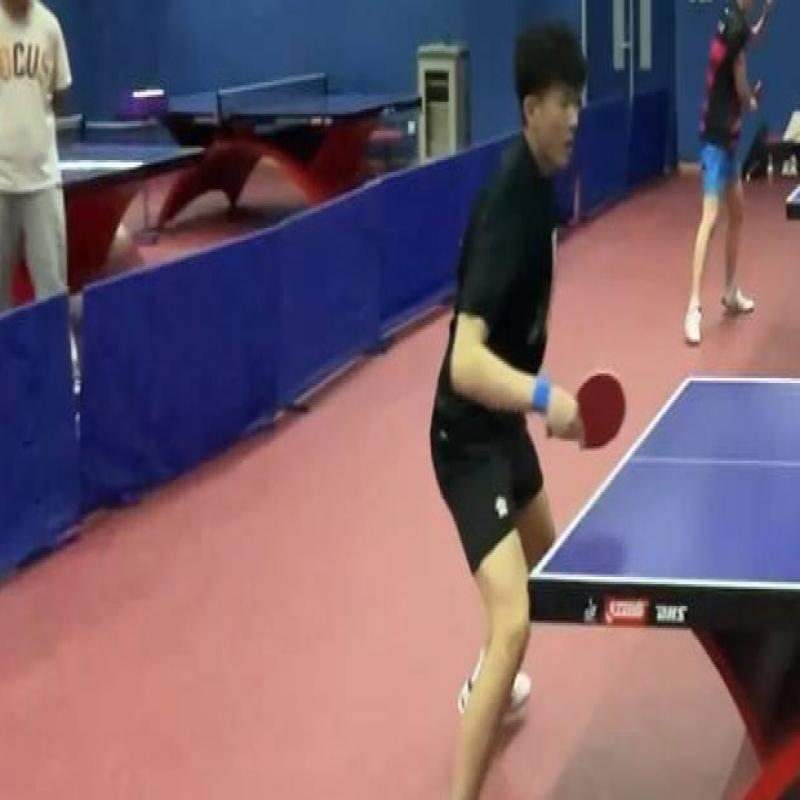bats: (557, 354, 638, 468)
